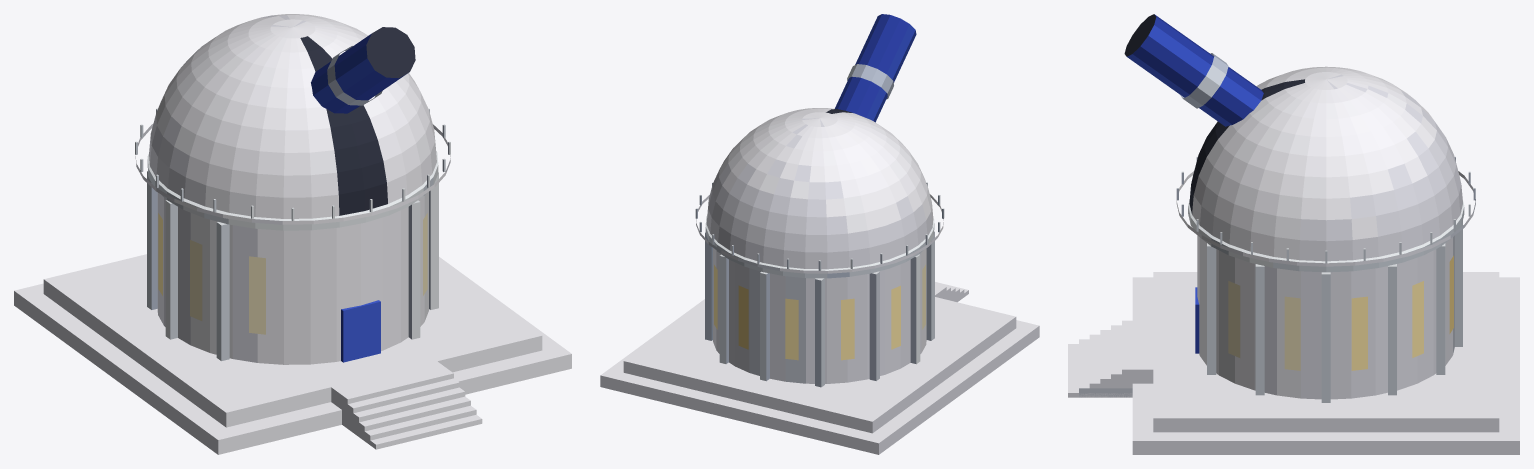
File: landmark.glb
3 views of the same model, side by side, from view 1: azimuth 30°, elevation 25°; view 2: azimuth 150°, elevation 25°; view 3: azimuth 270°, elevation 25° (orthographic). The views are drawn at different scales.
Visible parts, largest first — view 1: observatory; view 2: observatory; view 3: observatory.
Boxes of the visible parts, x1,y1,x2,y2 form: observatory: (14,14,571,454); observatory: (600,14,1039,454); observatory: (1068,14,1519,454).
Size of the model in its own units: 30 by 30.44 by 35.
Materials: 1 (1 with a texture image).
